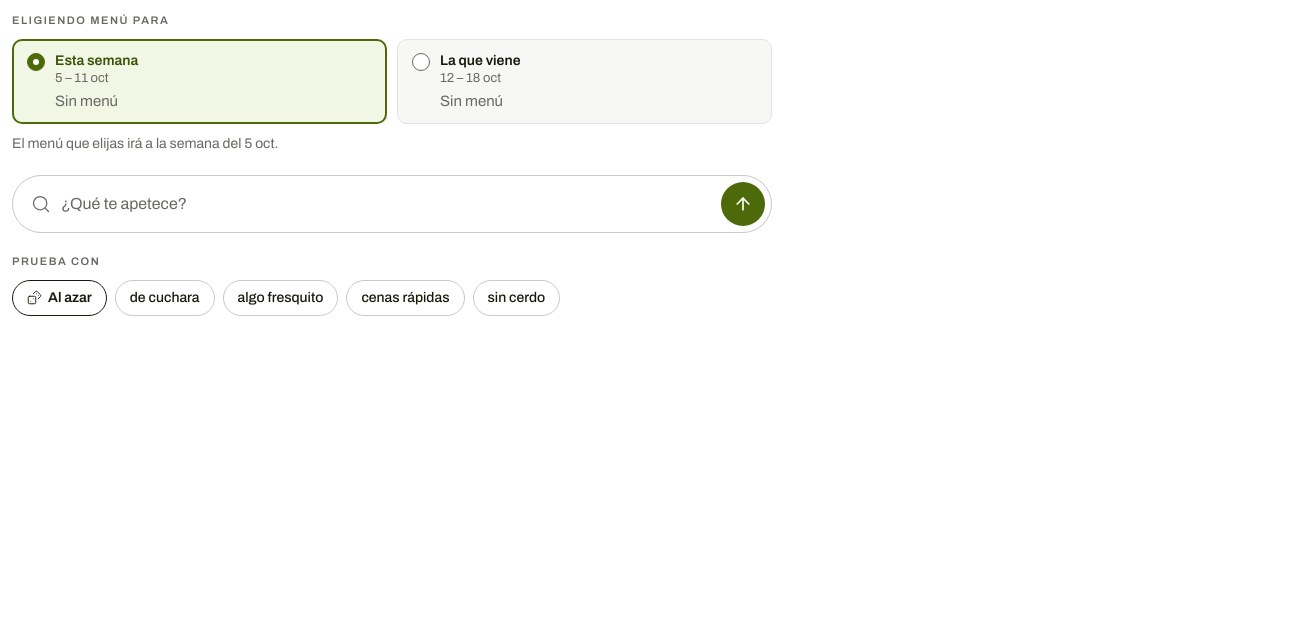
Test: PlannerSearch › a search with no menu › says what to do, offers "Editar mi búsqueda" and the suggestions, "Al azar" first
The width and height of the screenshot is (1292, 620).
Type "  cenas sin horno  " into the field.
click(386, 204); type("  cenas sin horno  ")  # box [61,184,711,224]
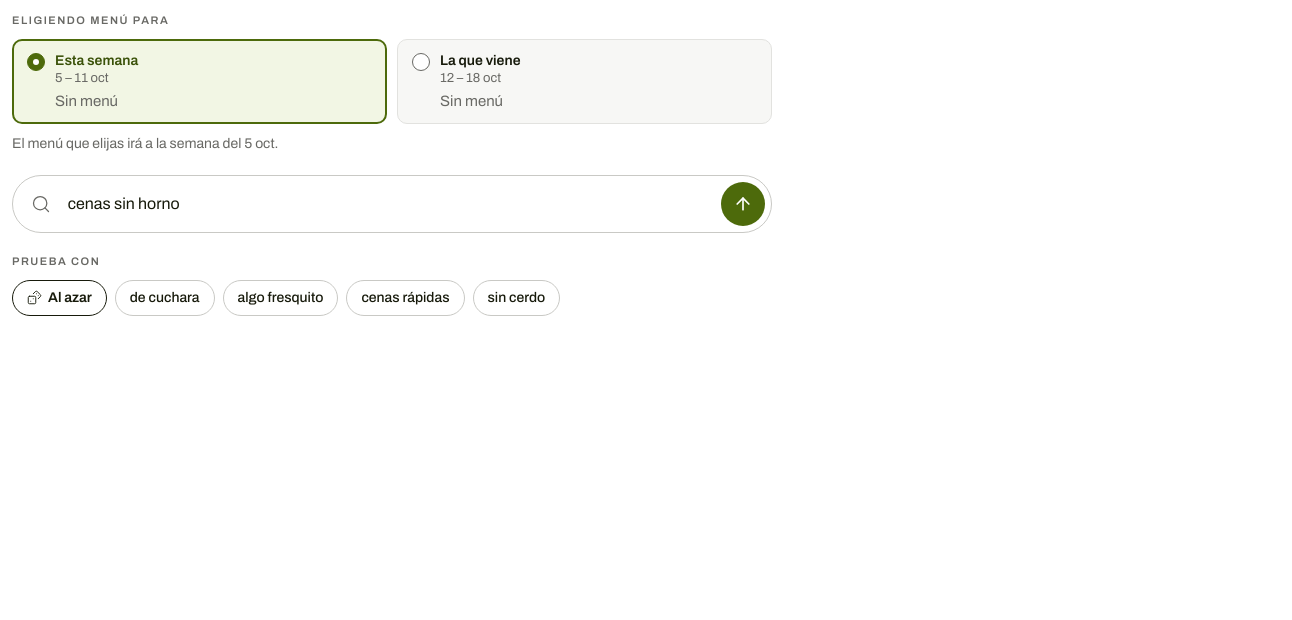
Click the button named "Buscar".
click(743, 204)  # box [721,182,765,226]
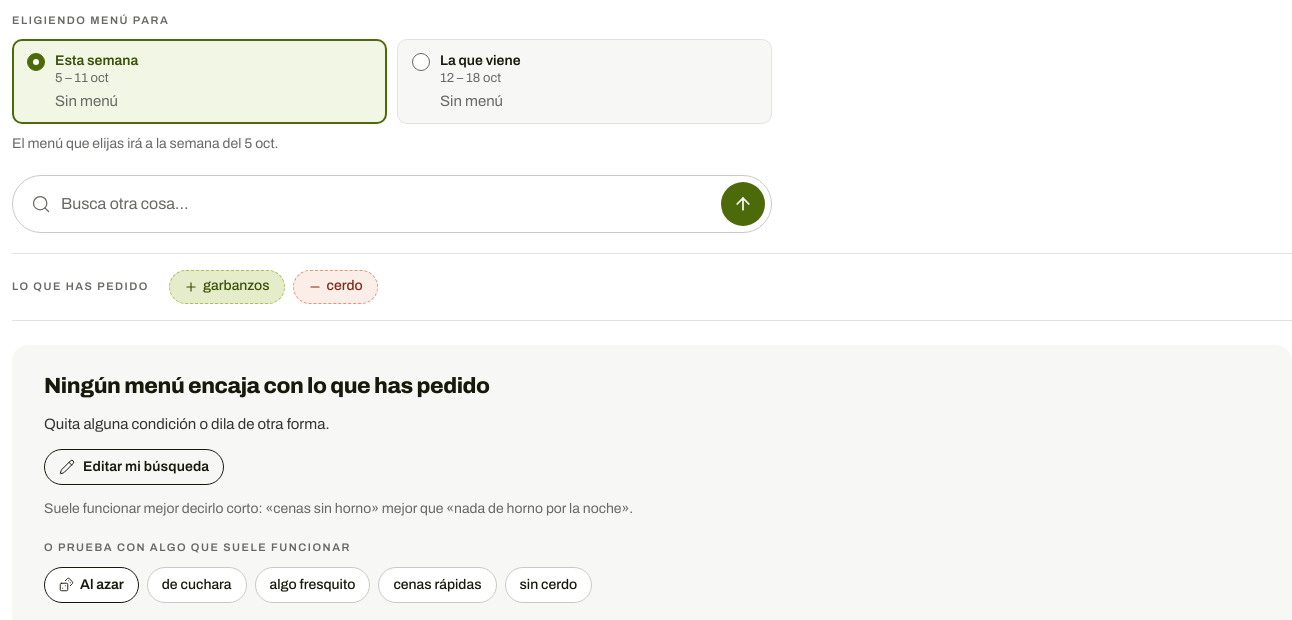
Expected: the text "Quita alguna condición o dila de otra forma." is shown, [44,413,330,436]
Expected: the button "Editar mi búsqueda" is shown, [44,450,224,486]
Expected: the text "Suele funcionar mejor decirlo corto" is shown, [44,502,633,516]
